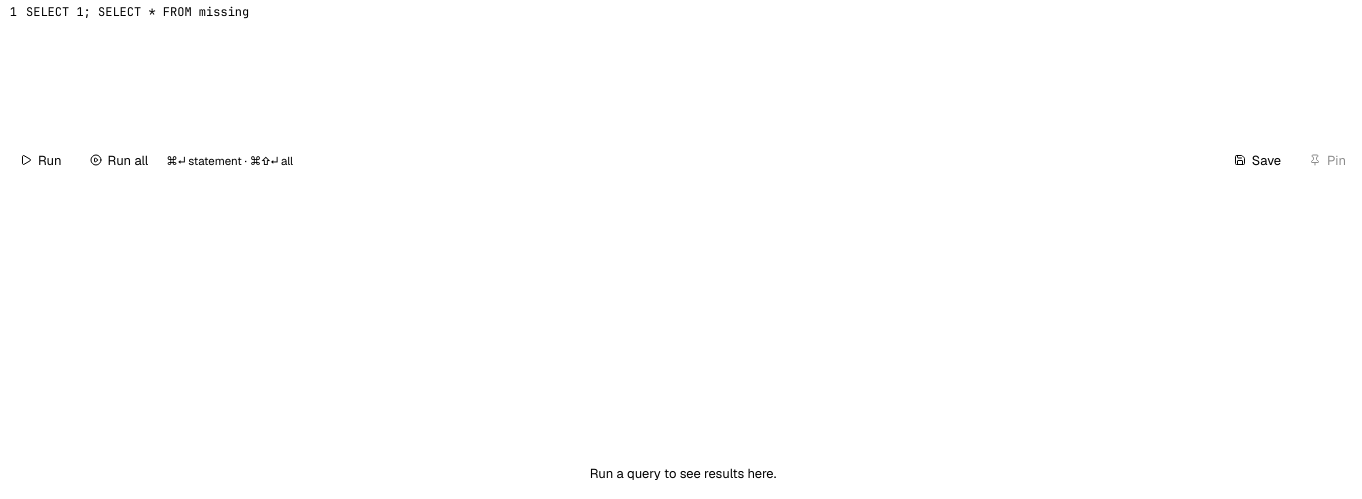
it: QueryTab › when a statement of a script fails › hides the failure while the next run is in progress
Click the button "Run all".
click(119, 160)  # box [80,147,158,173]
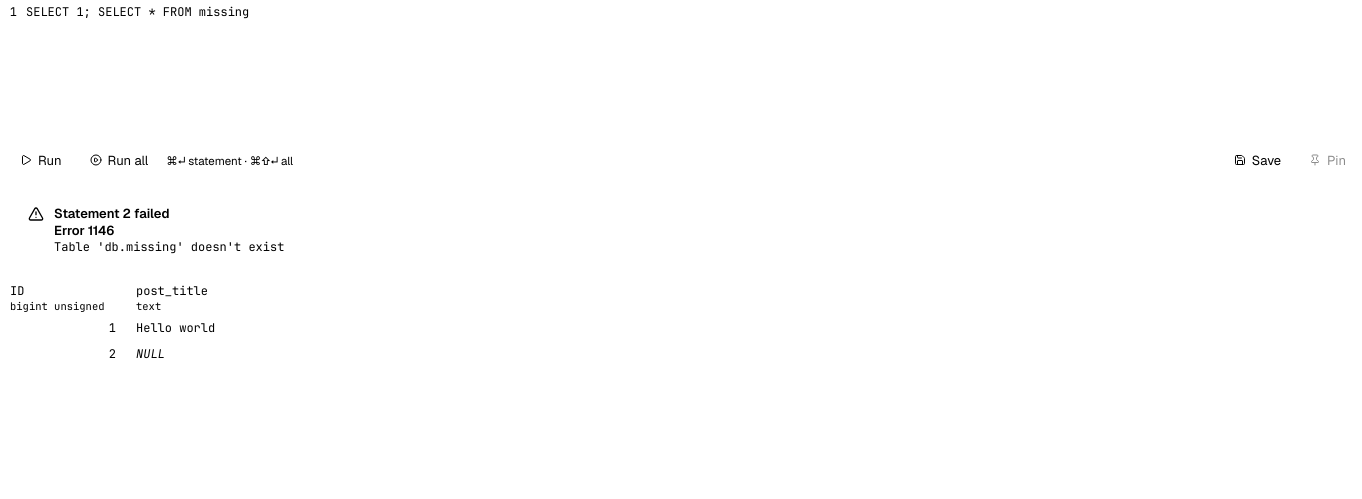
Check: the text "Statement 2 failed" is shown, box [54,205,170,222]
Click the button "Run all".
click(119, 160)  # box [80,147,158,173]
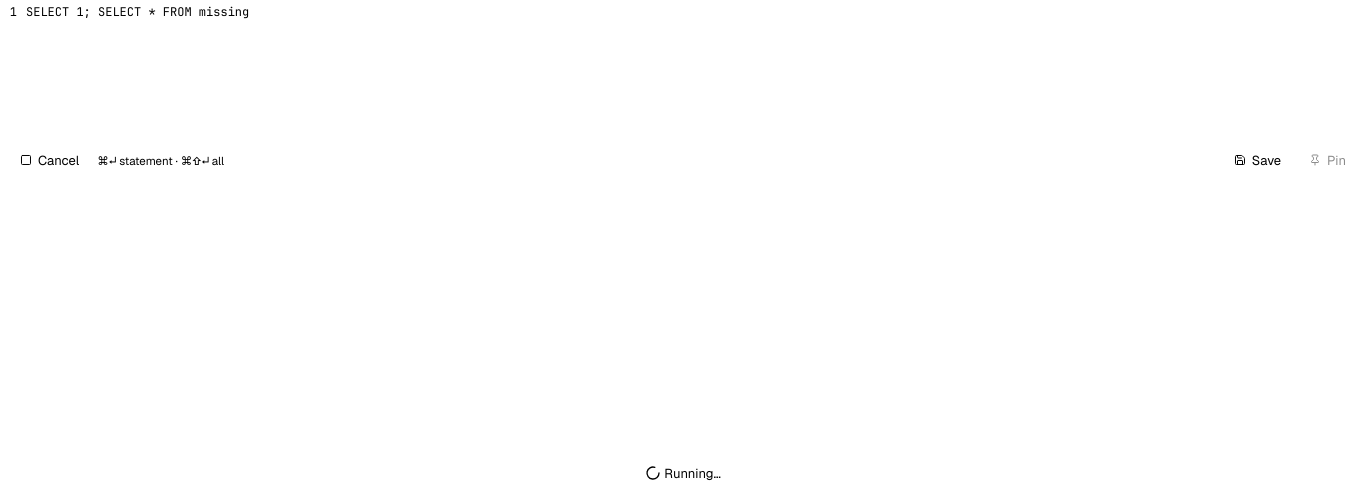
Check: the text "Running…" is shown, box [645,465,721,482]
Check: the text "Statement 2 failed" is gone
